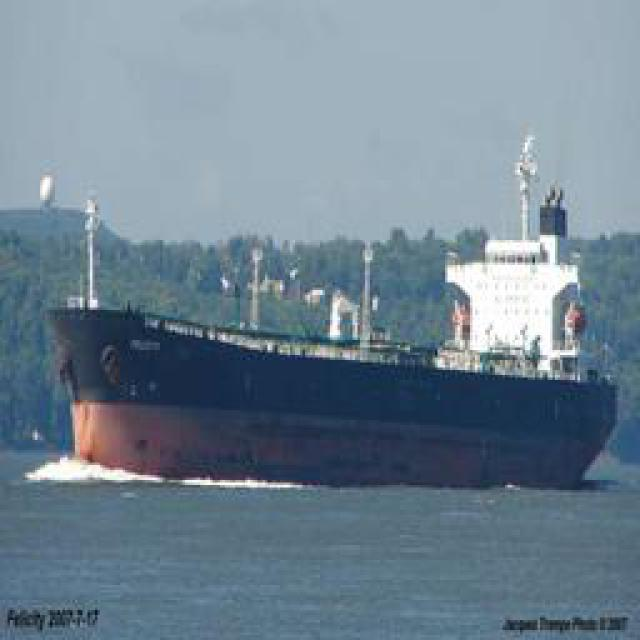Ship: (31, 159, 624, 494)
